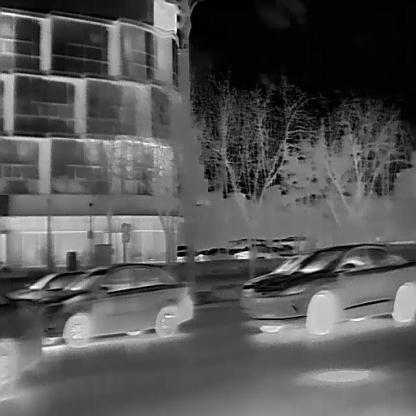car: (240, 242, 416, 336), (34, 260, 192, 347), (235, 243, 276, 257)
